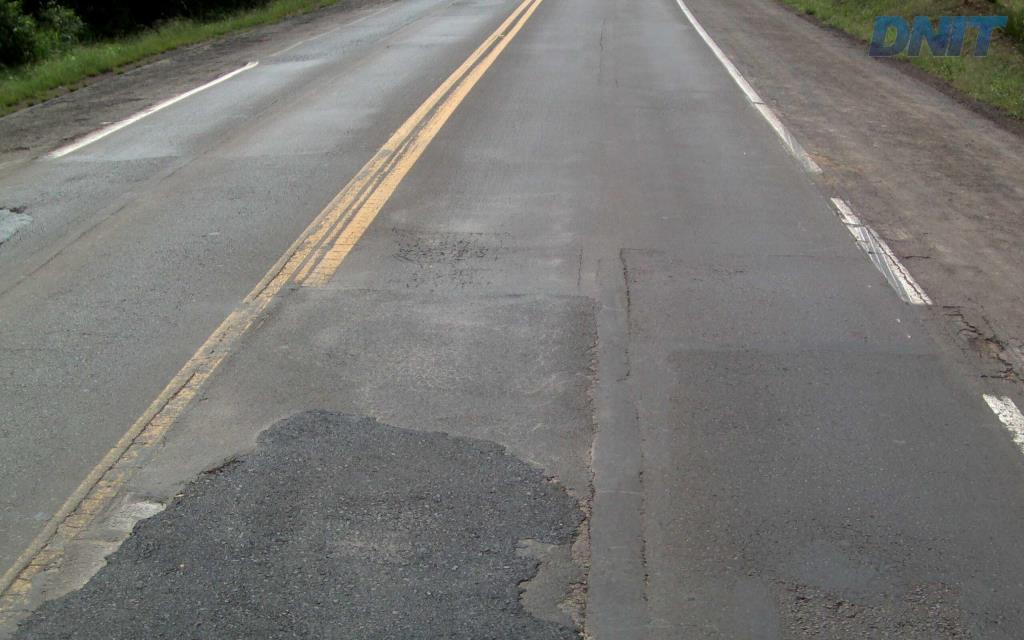crack: (396, 237, 447, 262)
